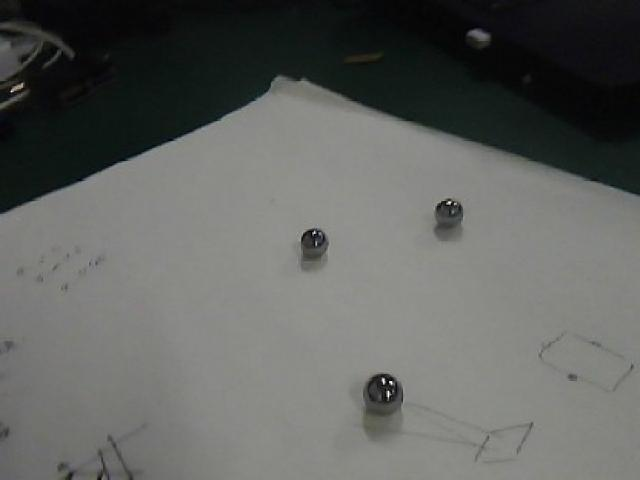steel-ball: (332, 359, 420, 424), (288, 217, 346, 275), (412, 174, 460, 235)
